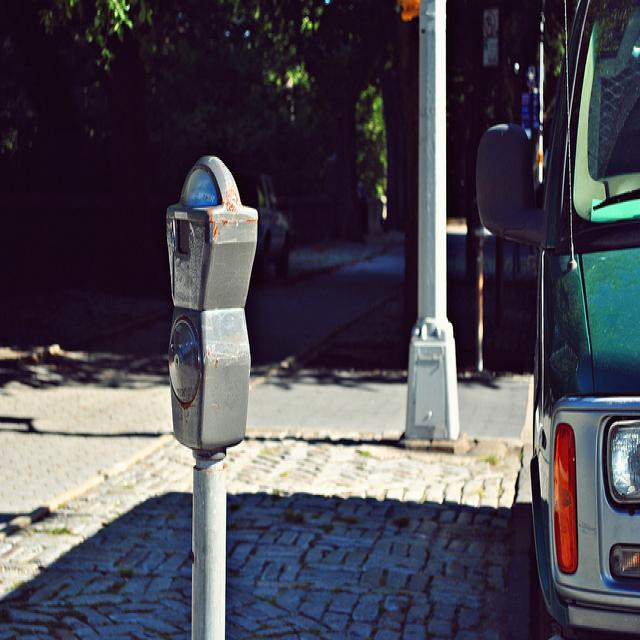Vehicle: (477, 2, 640, 632), (232, 170, 289, 284)
